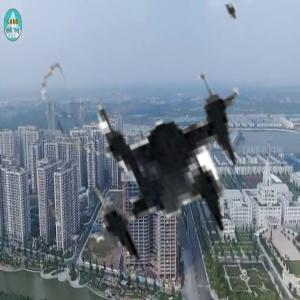drone: (17, 6, 299, 288)
